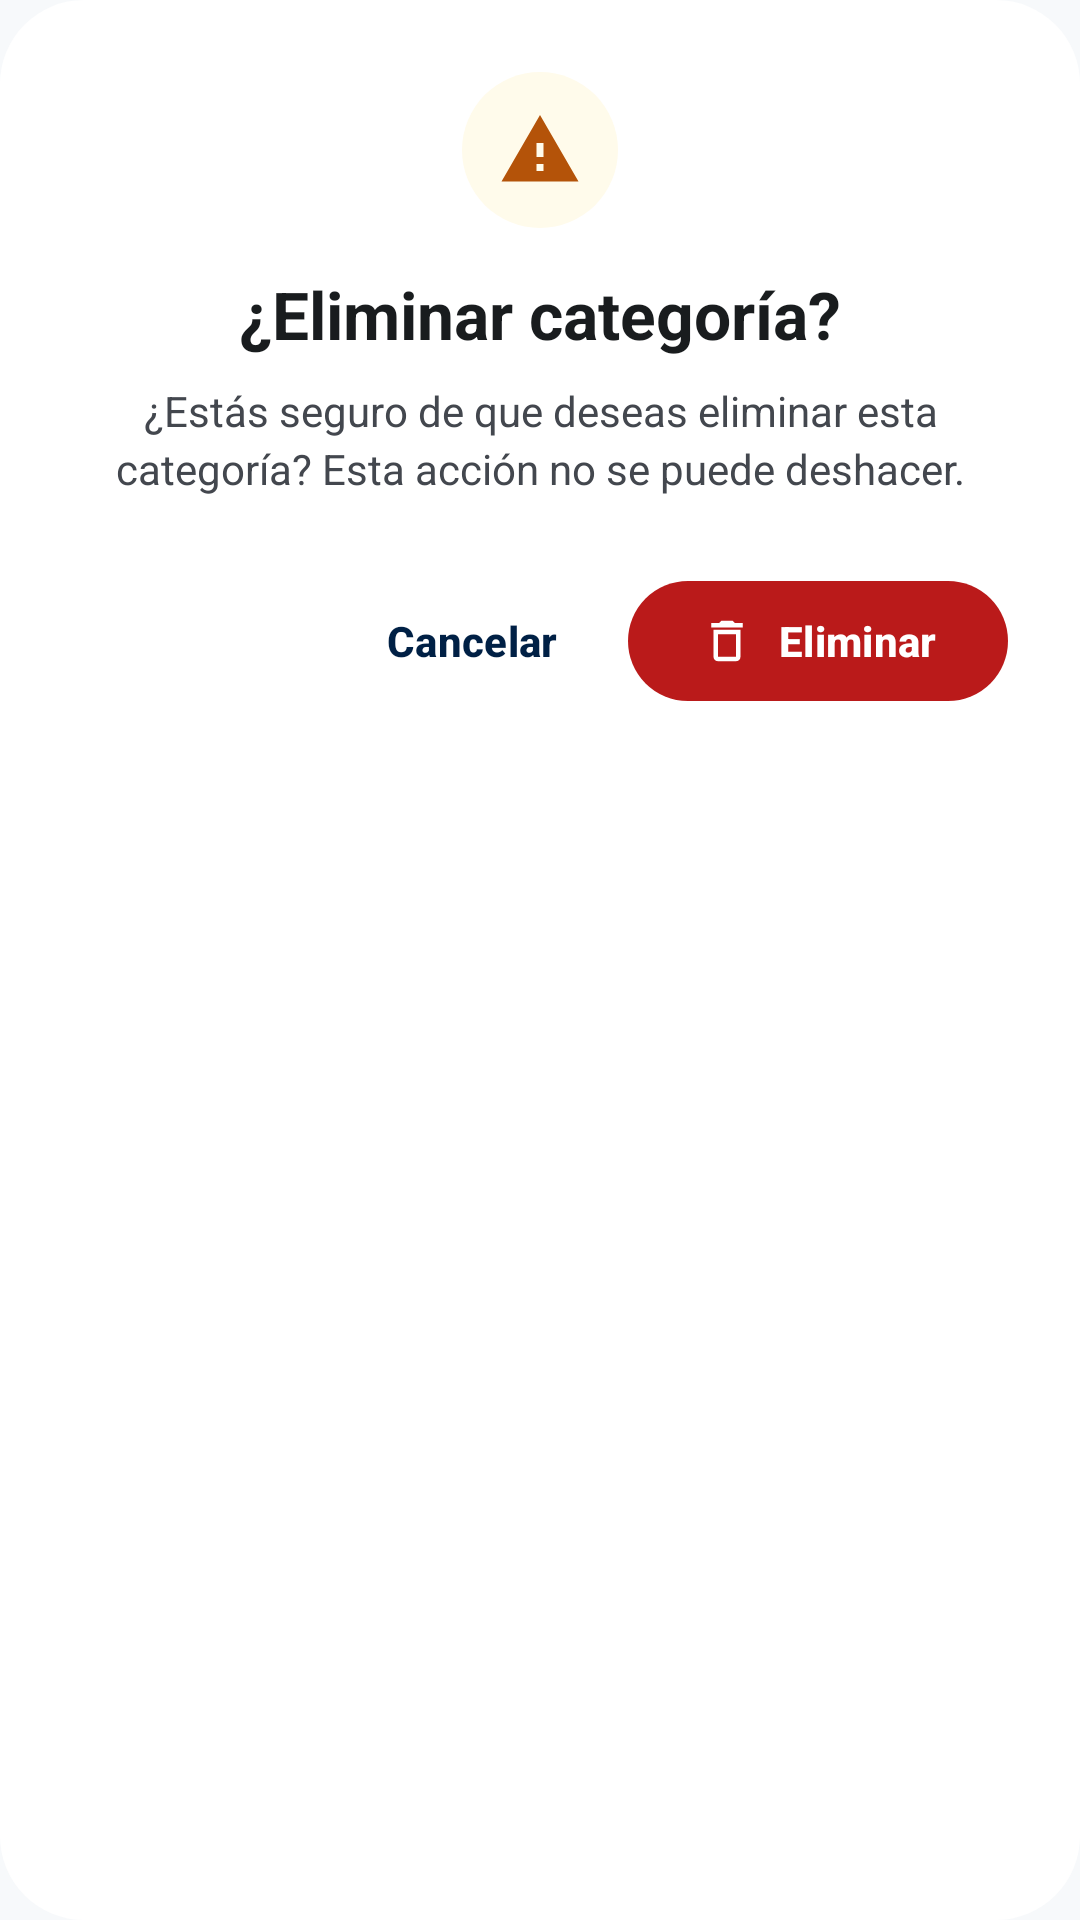

Where icons sit on this 1080 x 1920 app screen, as (x1, y1, x2, y2):
warning: (501, 115, 579, 182)
